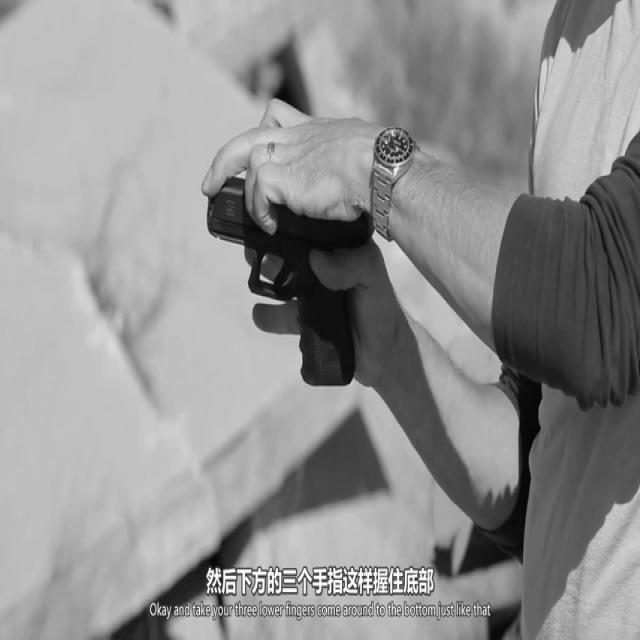Hand-Gun: (183, 119, 457, 516)
